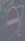No entry: (5, 6, 20, 36)
